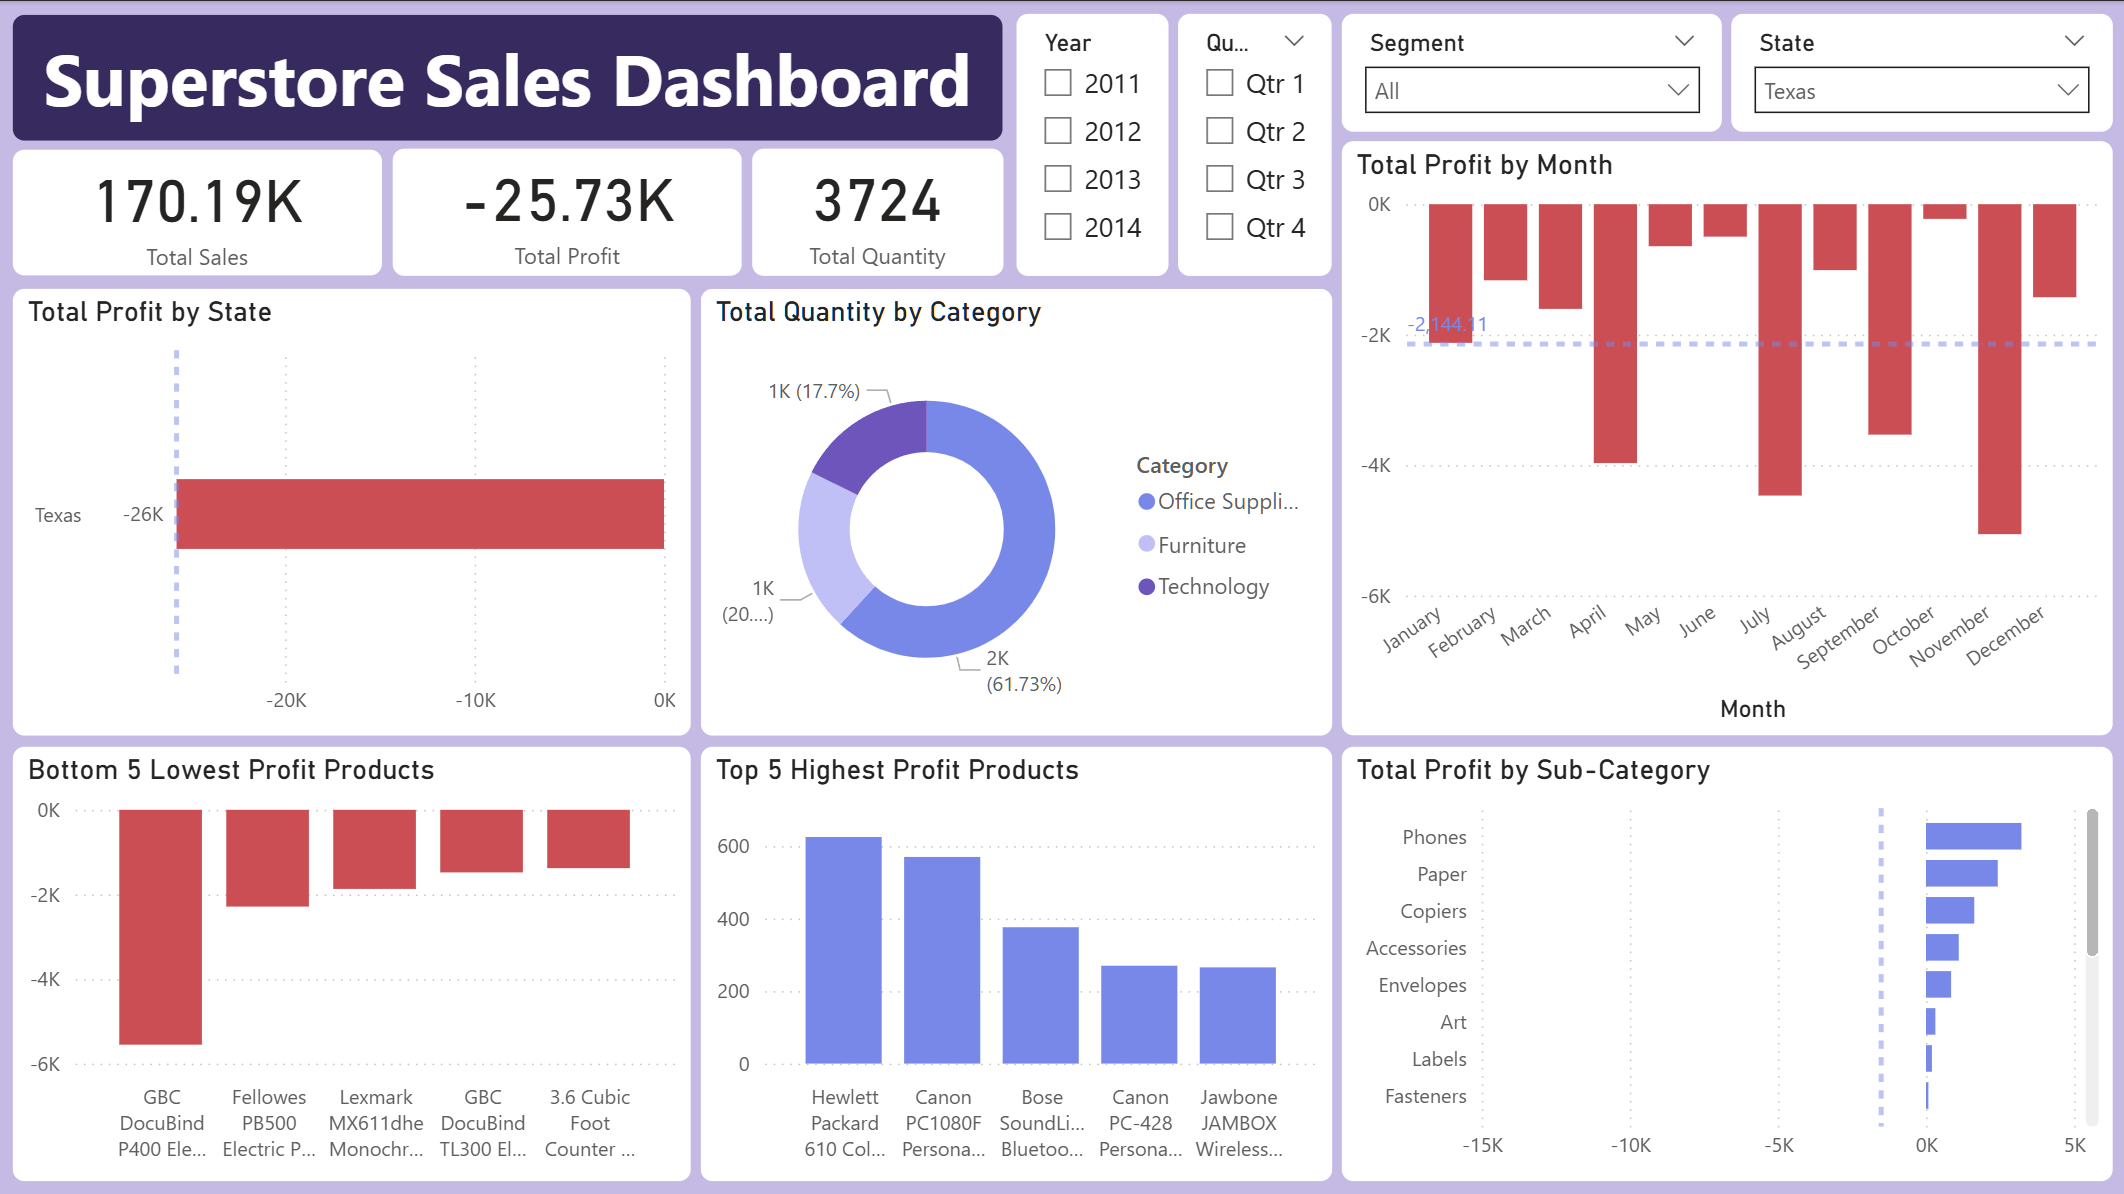

The page's visual inventory and layout, read from the dashboard file:
{"tool":"powerbi","page":{"name":"Superstore Sales Dashboard","canvas":[1280,720],"ordinal":0},"visuals":[{"type":"card","fields":{"Values":["Sum(FactSales.Sales)"]},"box":[7.8,89.6,222.3,75.8],"z":0},{"type":"card","fields":{"Values":["Sum(FactSales.Profit)"]},"box":[236.7,88.9,210.5,76.5],"z":1000},{"type":"card","fields":{"Values":["Sum(FactSales.Quantity)"]},"box":[453.1,88.9,151,76.5],"z":2000},{"type":"slicer","fields":{"Values":["FactSales.Order Date.Variation.Date Hierarchy.Year"]},"box":[612.6,7.8,91.5,157.6],"z":3000},{"type":"slicer","fields":{"Values":["FactSales.Order Date.Variation.Date Hierarchy.Quarter"]},"box":[710,7.8,92.8,157.6],"z":4000},{"type":"clusteredBarChart","title":"Total Profit by State","fields":{"Y":["Sum(FactSales.Profit)"],"Category":["DimLocation.State"]},"box":[7.8,173.3,408,269.4],"z":5000},{"type":"donutChart","title":"Total Quantity by Category","fields":{"Y":["Sum(FactSales.Quantity)"],"Category":["DimProduct.Category"]},"box":[422.4,173.3,380.5,269.4],"z":6000},{"type":"clusteredColumnChart","title":"Total Profit by Month","fields":{"Category":["FactSales.Order Date.Variation.Date Hierarchy.Month"],"Y":["Sum(FactSales.Profit)"]},"box":[808.1,84.3,464.9,358.3],"z":7000},{"type":"slicer","fields":{"Values":["FactSales.Segment"]},"box":[808.1,7.8,229.4,70.6],"z":8000},{"type":"textbox","box":[7.8,8.5,596.3,75.8],"z":9000},{"type":"clusteredBarChart","title":"Total Profit by Sub-Category","fields":{"Y":["Sum(FactSales.Profit)"],"Category":["DimProduct.Sub-Category"]},"box":[808.1,449.2,464.9,261.5],"z":10000},{"type":"slicer","fields":{"Values":["DimLocation.State"]},"box":[1043.3,7.8,229.7,70.6],"z":11000},{"type":"clusteredColumnChart","title":"Top 5 Highest Profit Products","fields":{"Y":["Sum(FactSales.Profit)"],"Category":["DimProduct.Product Name"]},"box":[422.4,449.2,380.5,261.5],"z":12000},{"type":"clusteredColumnChart","title":"Bottom 5 Lowest Profit Products","fields":{"Y":["Sum(FactSales.Profit)"],"Category":["DimProduct.Product Name"]},"box":[7.8,449.2,408,261.5],"z":13000}]}

Visuals, with their boxes in screenshot pixels (x1, y1, x2, y2), scaled from the page's 1280x720 canvas onto the 2124x1194 screenshot:
card - Sum(FactSales.Sales): x1=13 y1=149 x2=382 y2=274
card - Sum(FactSales.Profit): x1=393 y1=147 x2=742 y2=274
card - Sum(FactSales.Quantity): x1=752 y1=147 x2=1002 y2=274
slicer - FactSales.Order Date.Variation.Date Hierarchy.Year: x1=1017 y1=13 x2=1168 y2=274
slicer - FactSales.Order Date.Variation.Date Hierarchy.Quarter: x1=1178 y1=13 x2=1332 y2=274
"Total Profit by State" clusteredBarChart: x1=13 y1=287 x2=690 y2=734
"Total Quantity by Category" donutChart: x1=701 y1=287 x2=1332 y2=734
"Total Profit by Month" clusteredColumnChart: x1=1341 y1=140 x2=2112 y2=734
slicer - FactSales.Segment: x1=1341 y1=13 x2=1722 y2=130
textbox: x1=13 y1=14 x2=1002 y2=140
"Total Profit by Sub-Category" clusteredBarChart: x1=1341 y1=745 x2=2112 y2=1179
slicer - DimLocation.State: x1=1731 y1=13 x2=2112 y2=130
"Top 5 Highest Profit Products" clusteredColumnChart: x1=701 y1=745 x2=1332 y2=1179
"Bottom 5 Lowest Profit Products" clusteredColumnChart: x1=13 y1=745 x2=690 y2=1179
